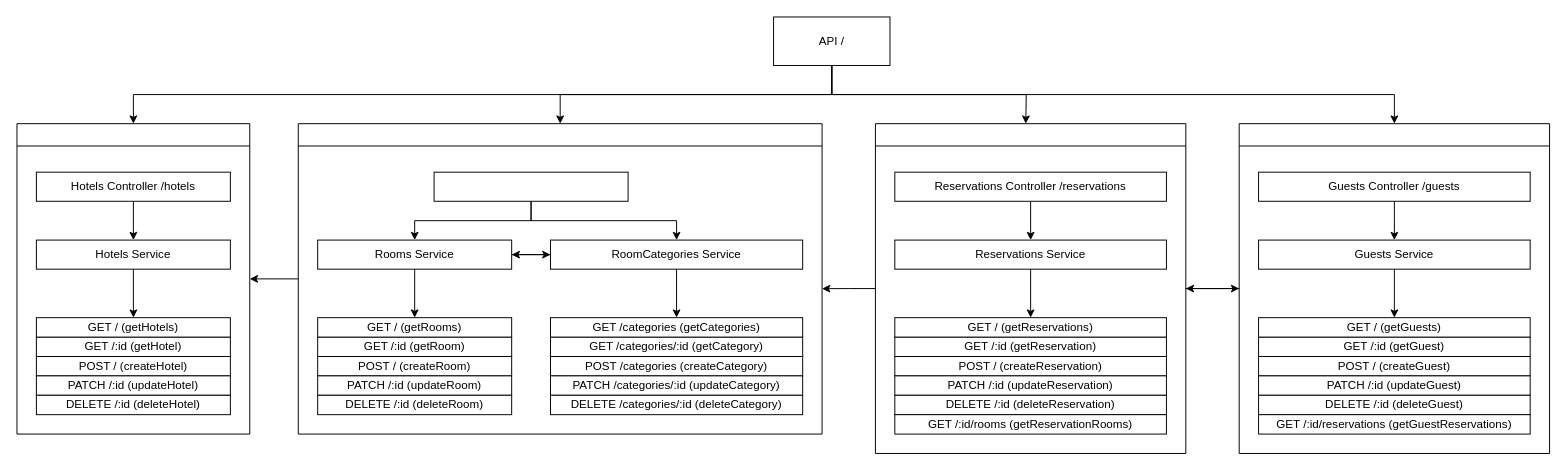
The diagram is 1567 pixels wide and 470 high, and some of its shapes have lost their labels. The box of each missing label's shape, as (x1, y1, x2, y2) in pixels:
Guests Module: (1238, 123, 1550, 453)
Hotel Module: (16, 123, 250, 434)
Reservations Module: (874, 123, 1186, 453)
Rooms Controller /rooms: (433, 171, 628, 201)
Rooms Module: (297, 123, 822, 434)
